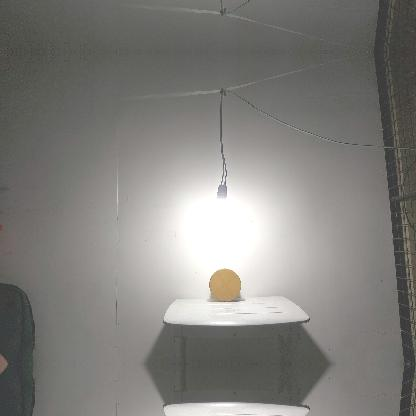Lady-s-Choice: (209, 268, 241, 302)
